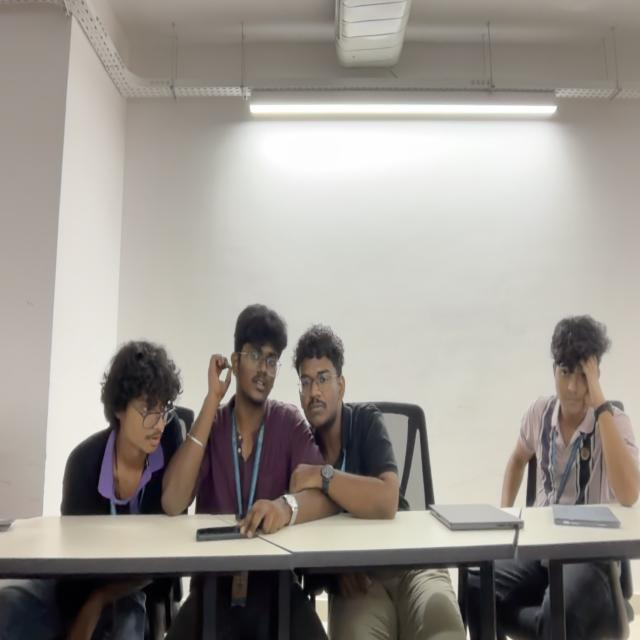Isolated: (502, 314, 640, 508)
socializing: (59, 304, 408, 518)
